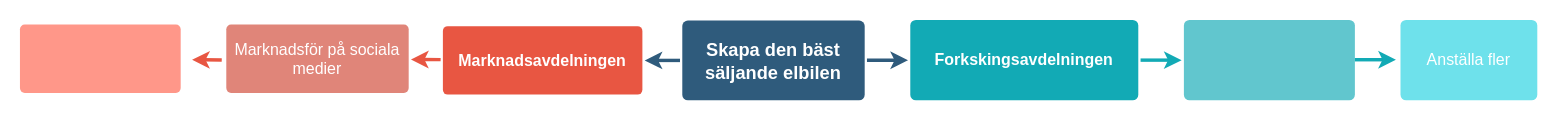
The diagram is 1556 pixels wide and 120 high, and some of its shapes have lost their labels. Here are the shapes that lost their labels. From the top down, the box of each, then its label:
(19, 24, 180, 92): Öka deras tillgångar (budget)
(1183, 19, 1354, 100): Göra många prototyper
